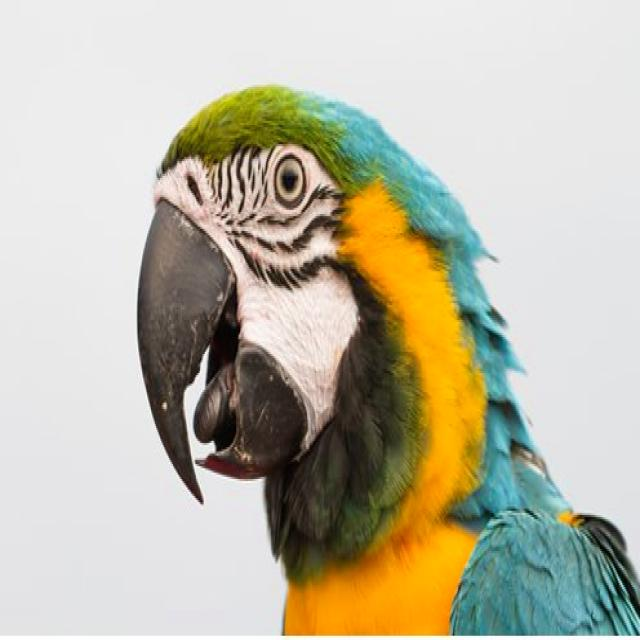parrot: (137, 85, 639, 634)
